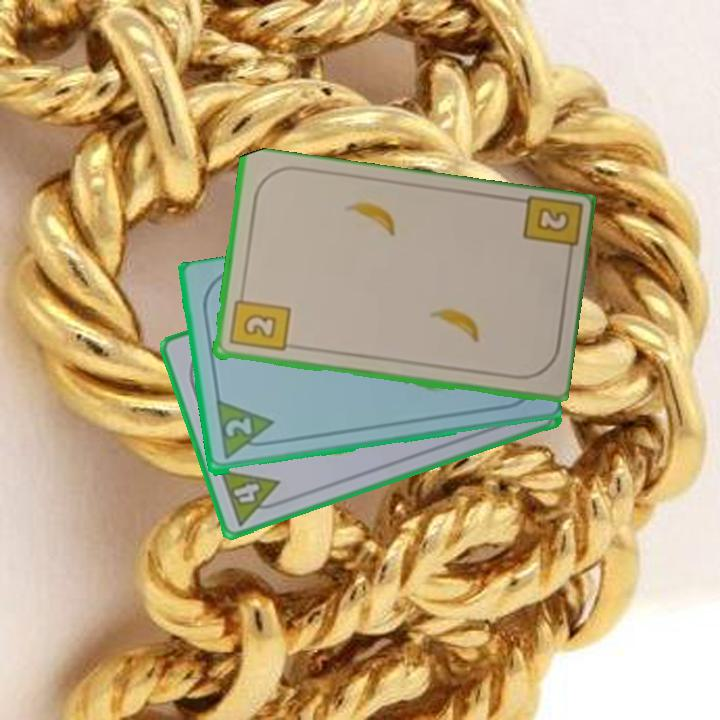2b: (225, 287, 292, 355), (518, 194, 581, 266)
2p: (212, 399, 278, 463)
4p: (216, 465, 289, 529)
